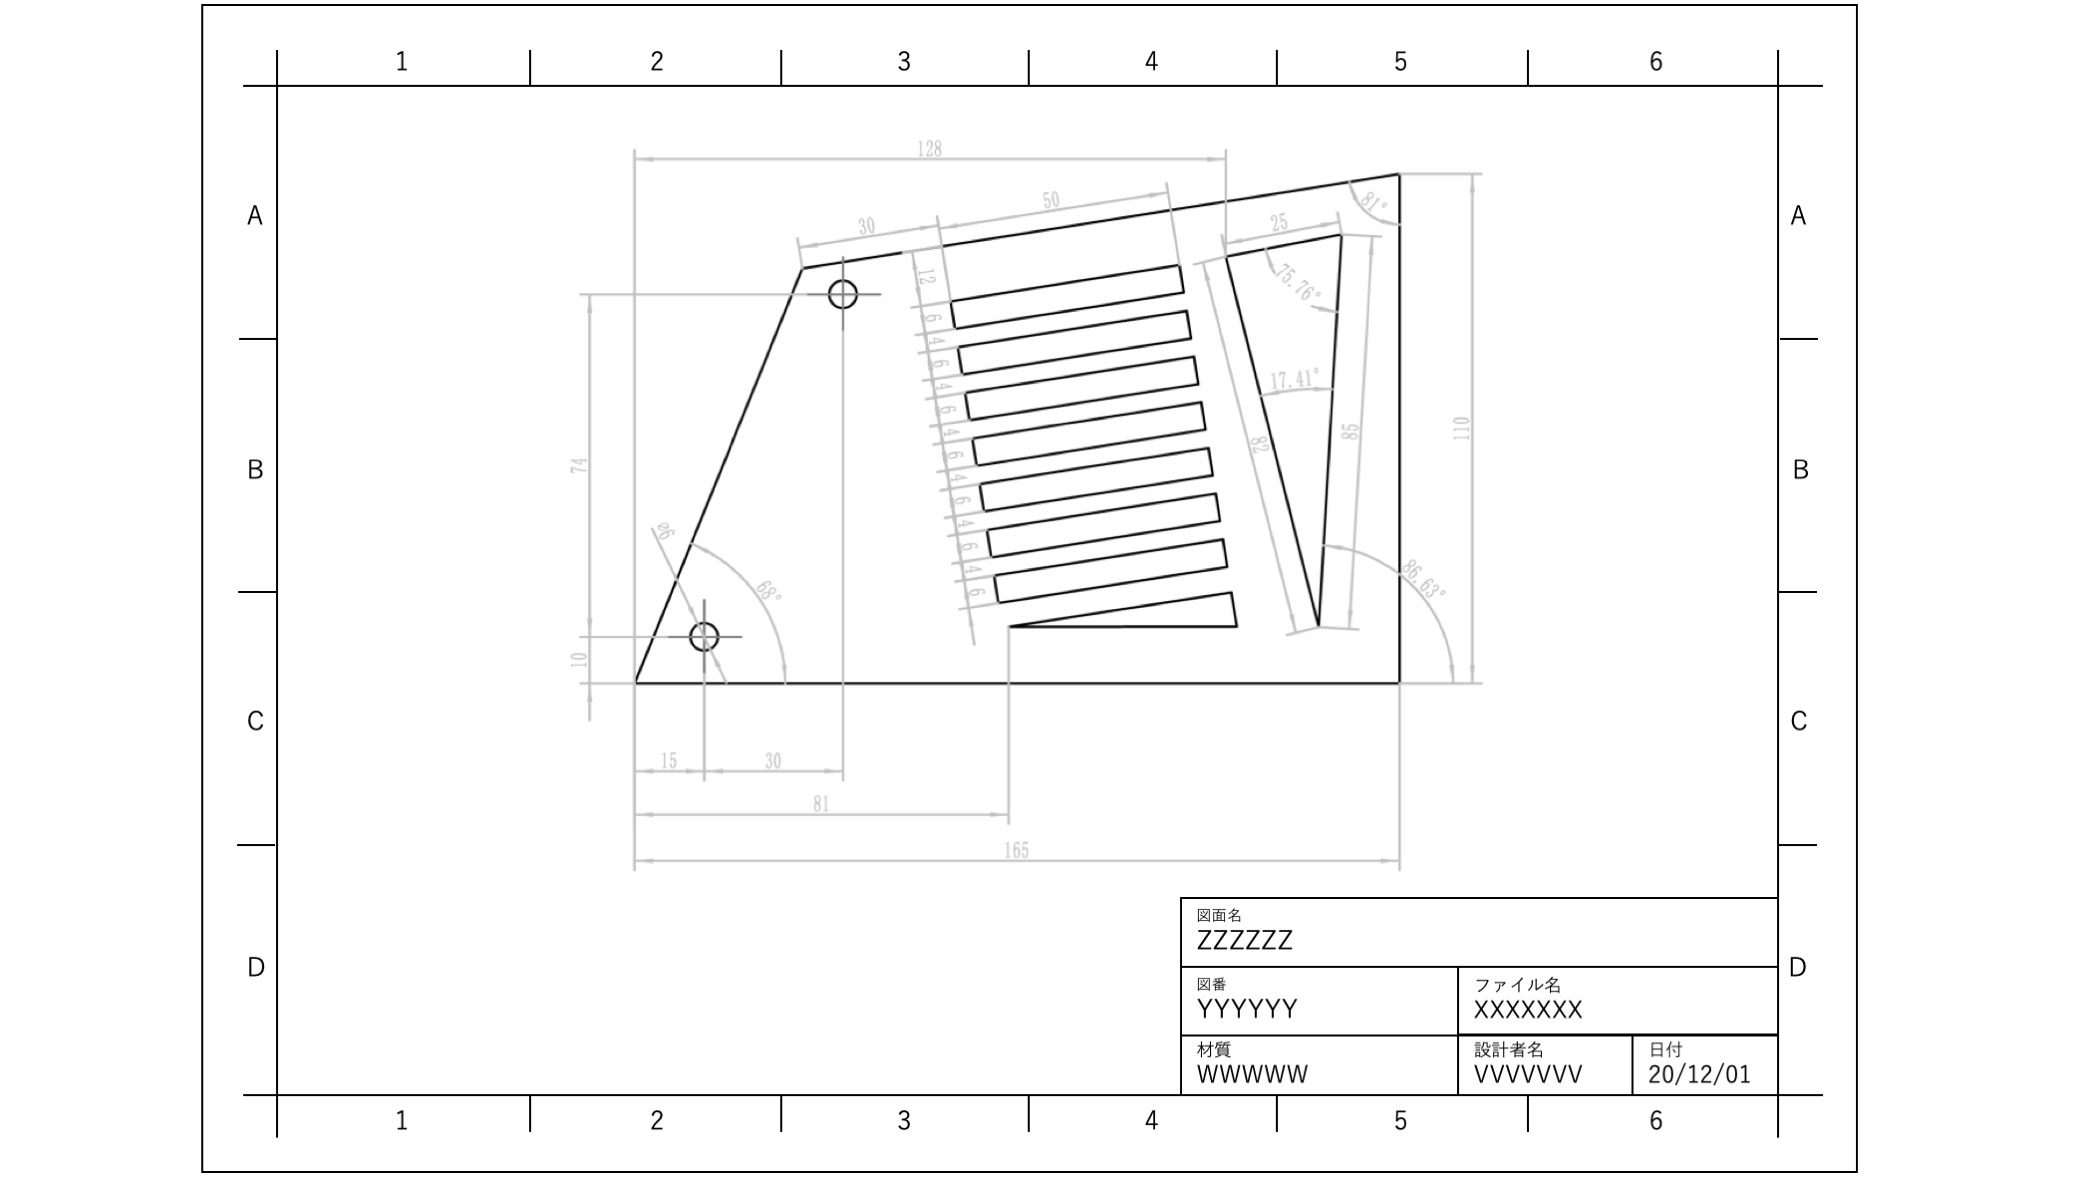circle: (825, 274, 861, 311), (688, 614, 721, 655)
rectangle: (976, 438, 1226, 513), (988, 534, 1232, 607), (955, 301, 1196, 373), (984, 489, 1225, 557), (969, 399, 1212, 466), (949, 261, 1186, 327), (962, 353, 1209, 412)
triangle: (1222, 229, 1344, 624), (1005, 588, 1237, 630)
